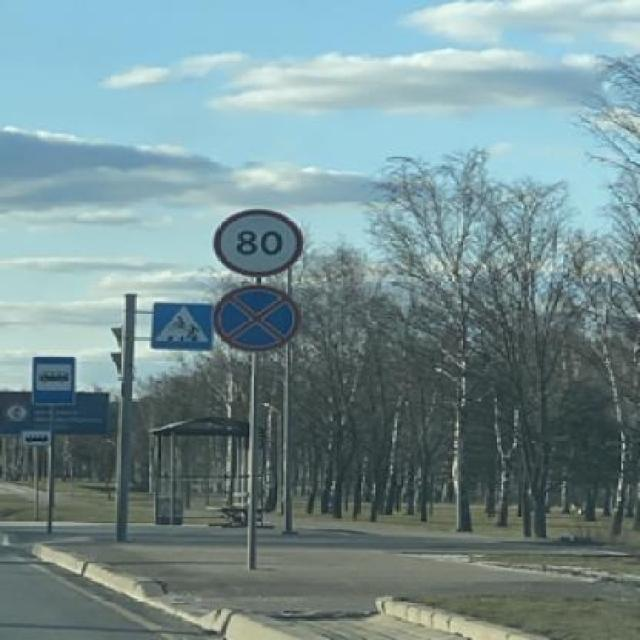forb_speed_over_80: (209, 206, 306, 280)
